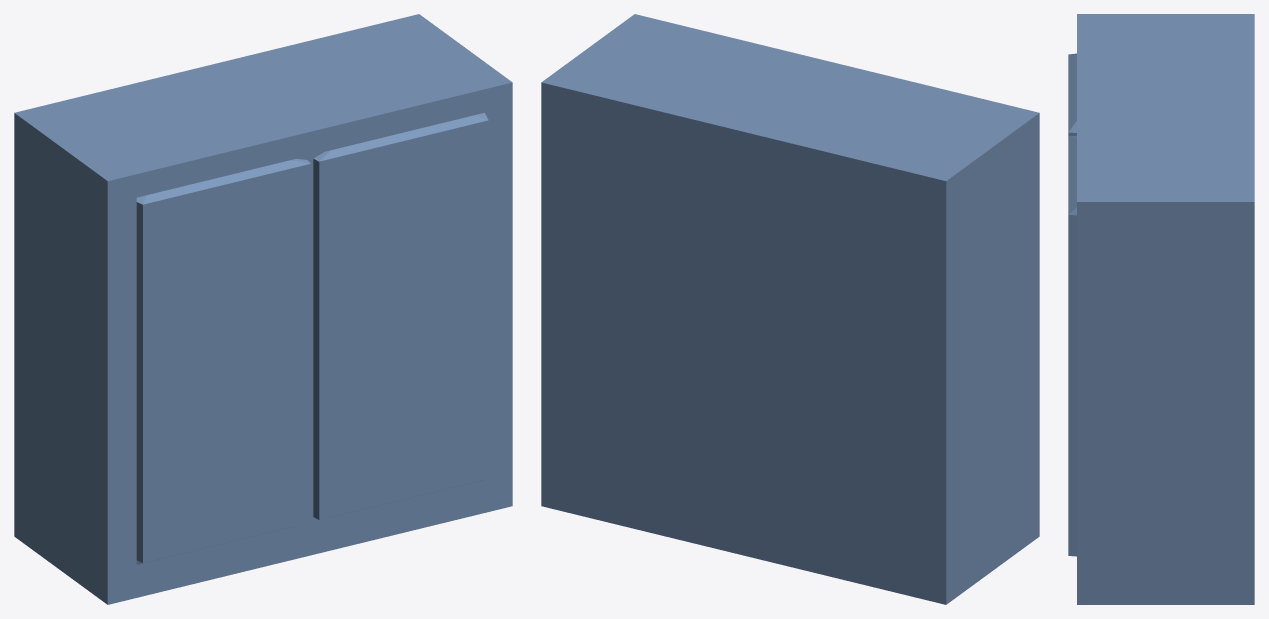
Rendered from cabinet.fbx.
The picture shows the model from 3 angles, left to right: view 1: azimuth 30°, elevation 25°; view 2: azimuth 150°, elevation 25°; view 3: azimuth 270°, elevation 25°; orthographic projection. The views are drawn at different scales.
Parts seen in each view (by area): view 1: Cabinet; view 2: Cabinet; view 3: Cabinet.
Boxes of the visible parts, x1=… form: Cabinet: x1=14, y1=14, x2=512, y2=604; Cabinet: x1=541, y1=14, x2=1039, y2=604; Cabinet: x1=1068, y1=14, x2=1254, y2=604.
Bounding box in the file's own units: 200 × 200 × 83.86.
